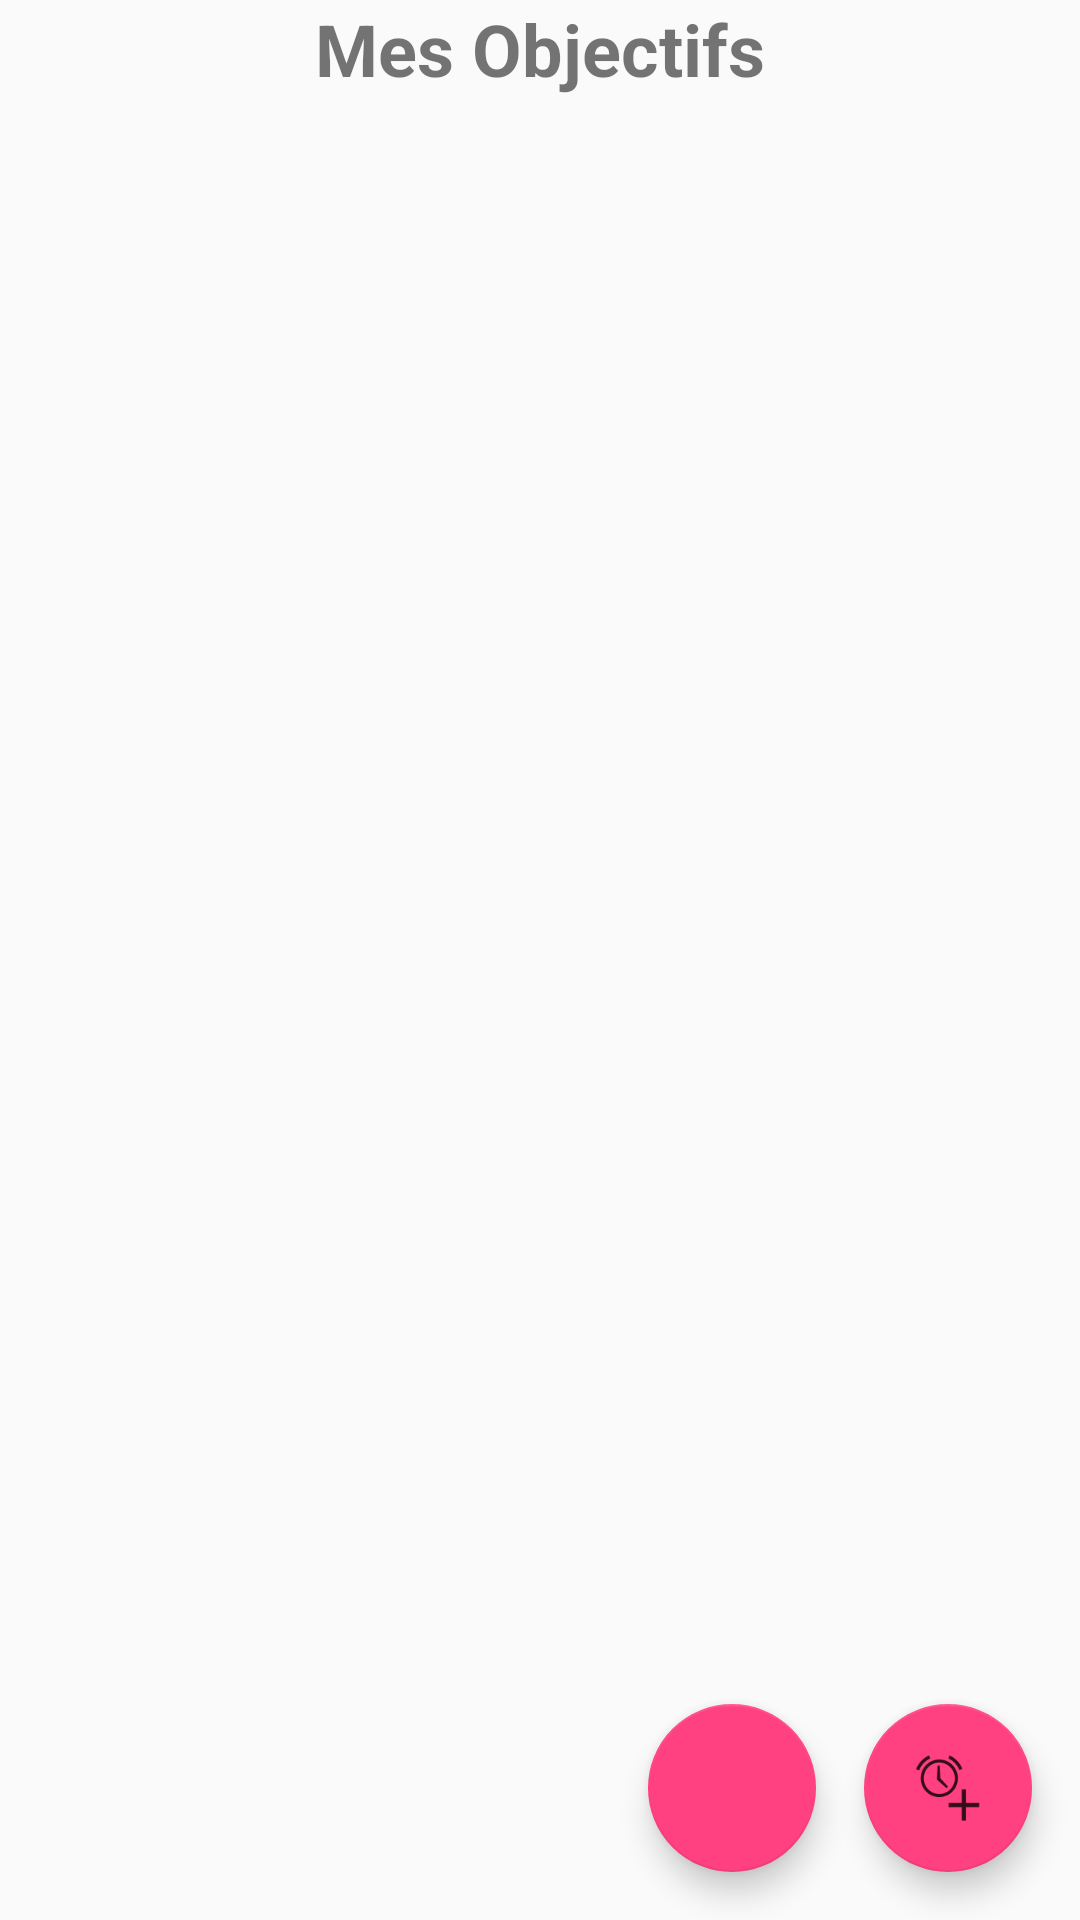

Named icons in this screenshot (1080px x 1920px) and their bounding boxes, (x1=x1, y1=y1, x2=x2, y2=y2):
clock add: (x1=864, y1=1704, x2=1032, y2=1872)
